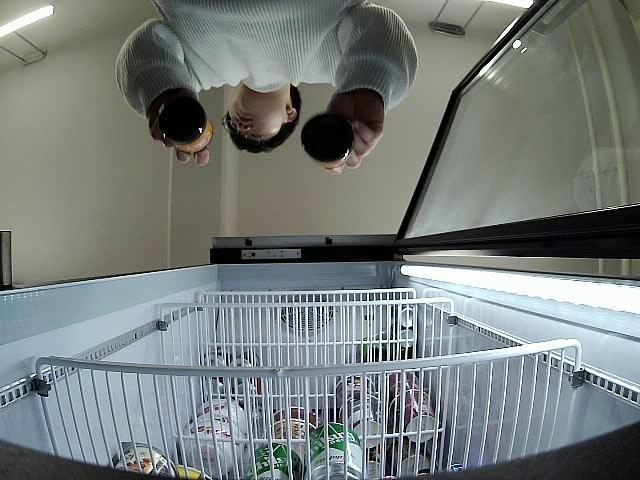17_vita500: (157, 96, 214, 154), (300, 112, 356, 168)
